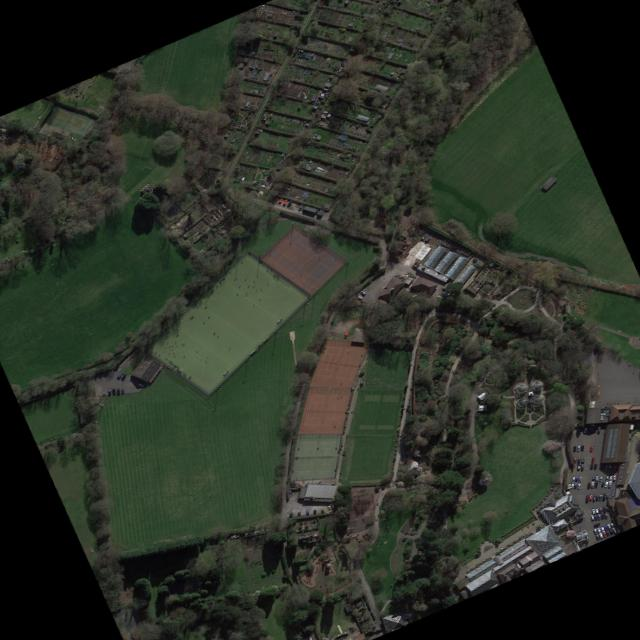small-vehicle: (116, 371, 123, 379), (120, 373, 127, 380), (612, 526, 618, 533), (298, 203, 304, 210), (599, 531, 604, 538), (593, 527, 598, 534), (283, 198, 288, 205), (287, 199, 292, 206), (138, 382, 145, 387), (605, 492, 610, 499), (595, 533, 600, 539), (608, 528, 613, 534), (610, 521, 615, 527), (360, 289, 366, 294), (278, 197, 283, 203), (593, 463, 598, 469), (593, 522, 600, 526), (344, 331, 348, 338), (589, 444, 593, 451), (580, 444, 584, 451), (578, 475, 582, 482), (597, 526, 601, 532), (603, 531, 607, 537), (604, 524, 608, 530), (607, 522, 611, 528), (112, 388, 116, 394), (289, 511, 293, 517), (602, 506, 606, 512), (580, 463, 584, 469), (581, 457, 585, 463), (591, 456, 595, 462), (590, 463, 594, 469), (573, 445, 577, 451), (608, 480, 612, 486), (592, 494, 596, 500), (602, 493, 606, 499), (577, 482, 581, 488), (590, 481, 594, 487), (595, 475, 599, 481), (592, 507, 595, 514), (108, 388, 111, 395), (606, 530, 610, 535), (601, 526, 605, 531), (606, 506, 610, 511), (577, 458, 581, 463), (583, 427, 587, 432), (585, 495, 589, 500), (594, 481, 598, 486), (604, 481, 608, 486), (595, 507, 598, 513), (117, 388, 120, 394), (306, 509, 309, 515), (599, 507, 602, 513), (613, 474, 616, 480), (577, 464, 580, 470), (589, 494, 592, 500), (599, 494, 602, 500), (572, 476, 575, 482), (574, 481, 577, 487), (587, 482, 590, 488), (599, 475, 602, 481), (601, 480, 604, 486), (591, 514, 594, 519), (594, 514, 597, 519), (598, 514, 601, 519), (601, 513, 604, 518), (605, 513, 608, 518), (297, 511, 300, 516), (313, 509, 316, 514), (321, 508, 324, 513), (577, 445, 580, 450), (598, 426, 601, 431), (298, 49, 303, 52), (608, 462, 611, 467), (609, 475, 612, 480), (596, 495, 599, 500), (571, 482, 574, 487), (575, 476, 578, 481), (592, 475, 595, 480), (606, 475, 609, 480), (573, 458, 576, 462), (604, 463, 607, 467)
